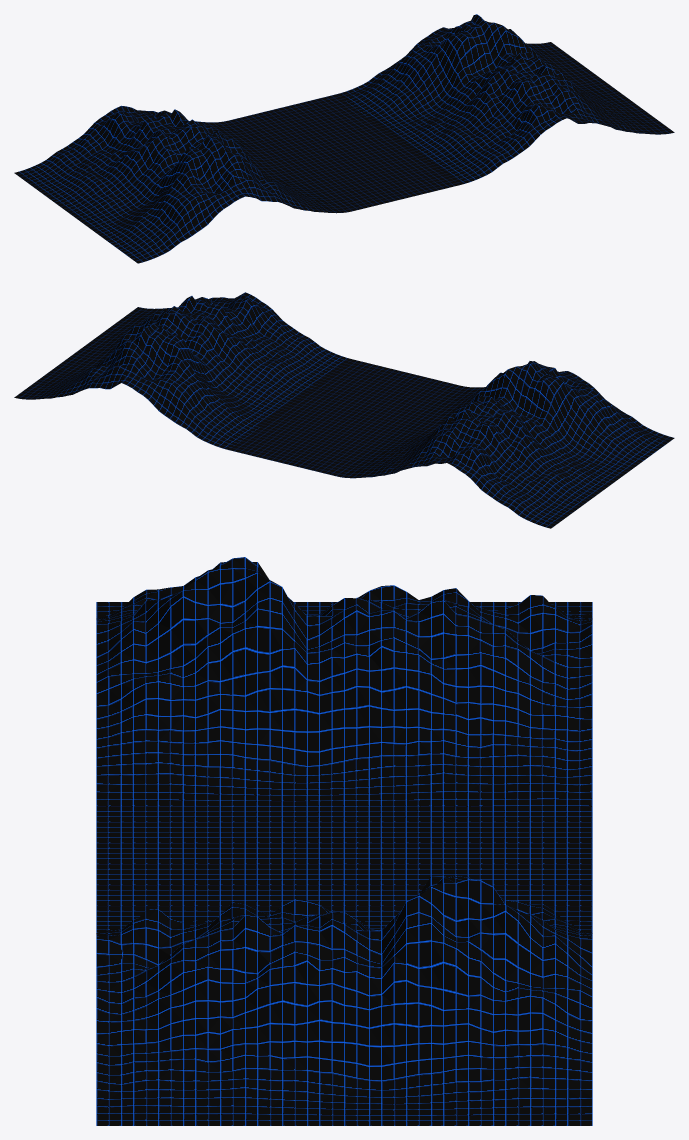
3 views of the same model, one above another, from view 1: azimuth 30°, elevation 25°; view 2: azimuth 150°, elevation 25°; view 3: azimuth 270°, elevation 25° (orthographic). The views are drawn at different scales.
Visible parts, largest first — view 1: Landscape; view 2: Landscape; view 3: Landscape.
Boxes of the visible parts, bbox=[...] form: Landscape: bbox=[14, 14, 674, 263]; Landscape: bbox=[14, 292, 674, 528]; Landscape: bbox=[96, 557, 592, 1125].
Size of the model in its own units: 100 by 40 by 13.32.
